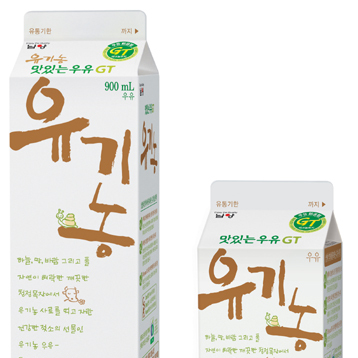milk: (9, 9, 160, 358), (198, 180, 343, 358)
